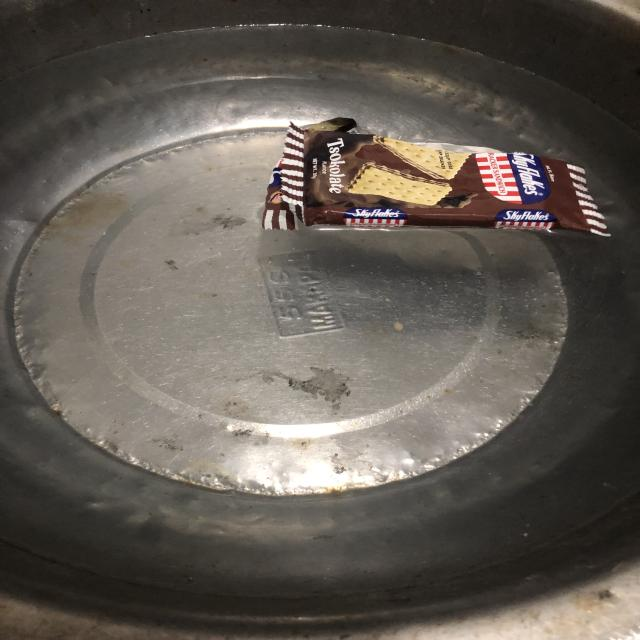Plastic Wrapper: (230, 90, 640, 253)
